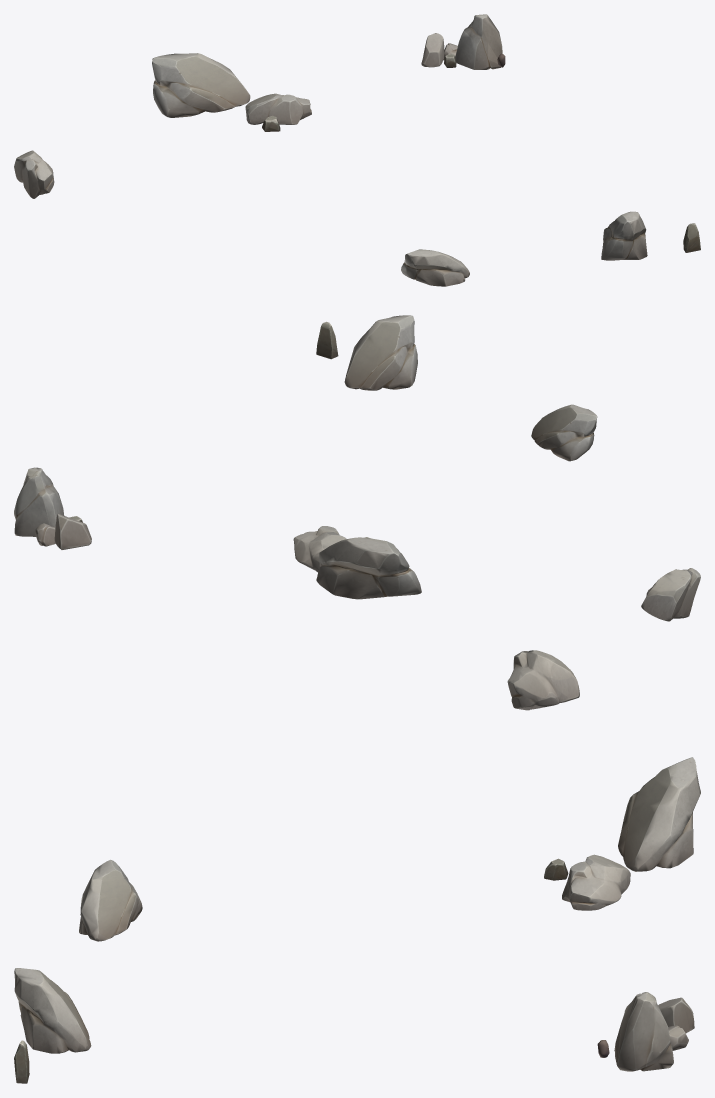
The model's file is rocks.glb.
3 renders of one model, top to bottom at view 1: azimuth 30°, elevation 25°; view 2: azimuth 150°, elevation 25°; view 3: azimuth 270°, elevation 25°, orthographic. The views are drawn at different scales.
Visible parts, largest first — view 1: SM_Rocks_04_RocksStylized_M_0.001, SM_Rocks_05_RocksStylized_M_0, SM_Rocks_04_RocksStylized_M_0.007, SM_Rocks_04_RocksStylized_M_0, SM_Rocks_03_RocksStylized_M_0, SM_Rocks_03_RocksStylized_M_0.005, SM_Rocks_02_RocksStylized_M_0; view 2: SM_Rocks_04_RocksStylized_M_0.001, SM_Rocks_04_RocksStylized_M_0, SM_Rocks_04_RocksStylized_M_0.007, SM_Rocks_05_RocksStylized_M_0, SM_Rocks_03_RocksStylized_M_0.005, SM_Rocks_03_RocksStylized_M_0, SM_Rocks_02_RocksStylized_M_0, SM_Rocks_08_RocksStylized_M_0; view 3: SM_Rocks_04_RocksStylized_M_0.001, SM_Rocks_04_RocksStylized_M_0, SM_Rocks_04_RocksStylized_M_0.007, SM_Rocks_05_RocksStylized_M_0, SM_Rocks_03_RocksStylized_M_0.005, SM_Rocks_03_RocksStylized_M_0, SM_Rocks_02_RocksStylized_M_0.
Part boxes in pixels (box(x1,y1,x2,y2)): SM_Rocks_04_RocksStylized_M_0.001: box(152, 53, 250, 117); SM_Rocks_05_RocksStylized_M_0: box(455, 14, 502, 69); SM_Rocks_04_RocksStylized_M_0.007: box(401, 249, 469, 286); SM_Rocks_04_RocksStylized_M_0: box(601, 211, 647, 260); SM_Rocks_03_RocksStylized_M_0: box(245, 93, 311, 124); SM_Rocks_03_RocksStylized_M_0.005: box(14, 150, 54, 198); SM_Rocks_02_RocksStylized_M_0: box(421, 33, 444, 67); SM_Rocks_04_RocksStylized_M_0.001: box(316, 537, 421, 599); SM_Rocks_04_RocksStylized_M_0: box(344, 315, 417, 390); SM_Rocks_04_RocksStylized_M_0.007: box(531, 404, 597, 461); SM_Rocks_05_RocksStylized_M_0: box(14, 467, 64, 536); SM_Rocks_03_RocksStylized_M_0.005: box(641, 568, 700, 621); SM_Rocks_03_RocksStylized_M_0: box(293, 526, 346, 572); SM_Rocks_02_RocksStylized_M_0: box(54, 514, 91, 549); SM_Rocks_08_RocksStylized_M_0: box(316, 321, 338, 359); SM_Rocks_04_RocksStylized_M_0.001: box(618, 757, 700, 871); SM_Rocks_04_RocksStylized_M_0: box(14, 968, 91, 1053); SM_Rocks_04_RocksStylized_M_0.007: box(79, 860, 142, 941); SM_Rocks_05_RocksStylized_M_0: box(614, 992, 673, 1071); SM_Rocks_03_RocksStylized_M_0.005: box(507, 650, 579, 710); SM_Rocks_03_RocksStylized_M_0: box(562, 854, 630, 910); SM_Rocks_02_RocksStylized_M_0: box(658, 997, 694, 1033).
Size of the model in its own units: 19.24 by 3.16 by 16.08.
4 materials, 4 textured.
